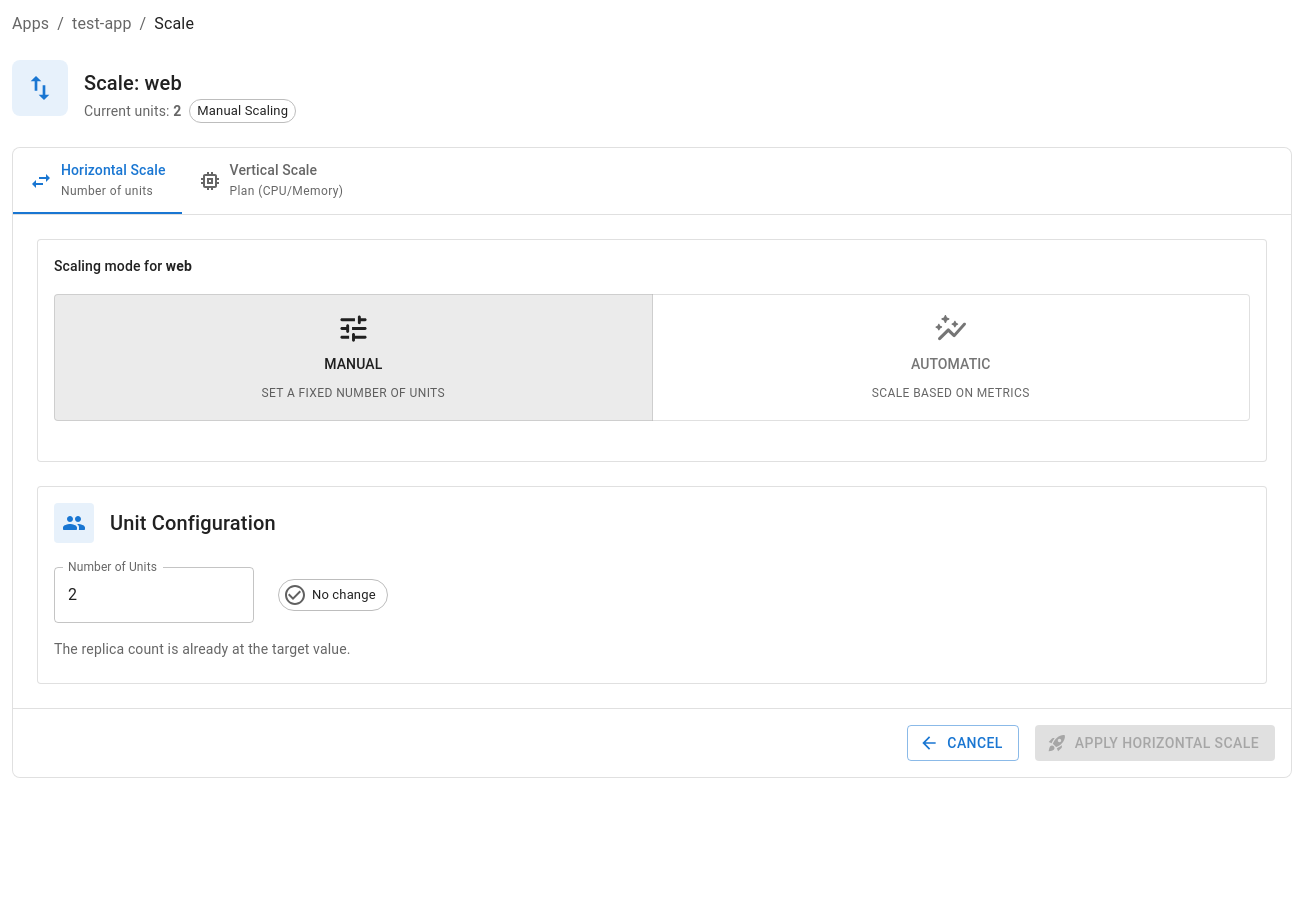
AppScaleView › calculates delta correctly for manual scaling
# Change replicas from 2 to 5
Replace the text in the number field labelled "Number of Units" with "5" at (154, 595), box [54,567,254,623]
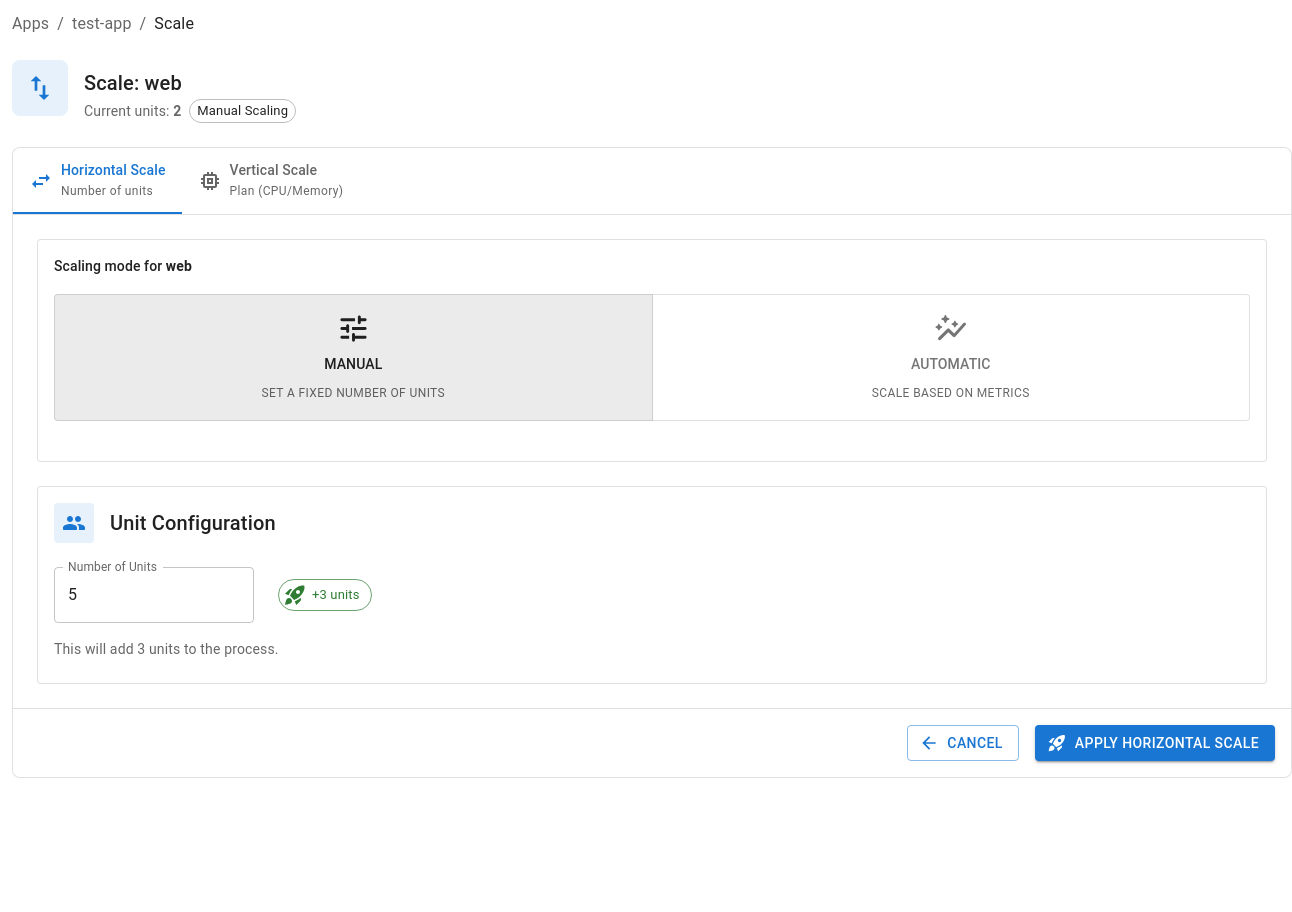
Expected: the text "+3 units" is shown, [312,587,360,602]
